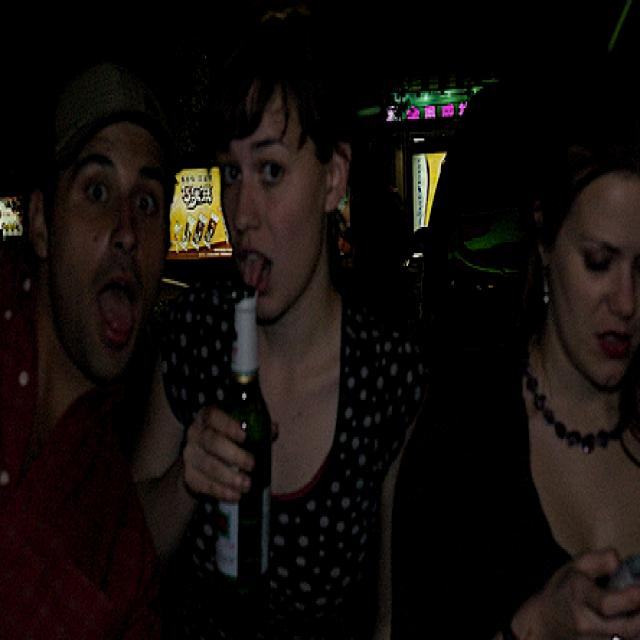Vehicle: (402, 84, 561, 348)
